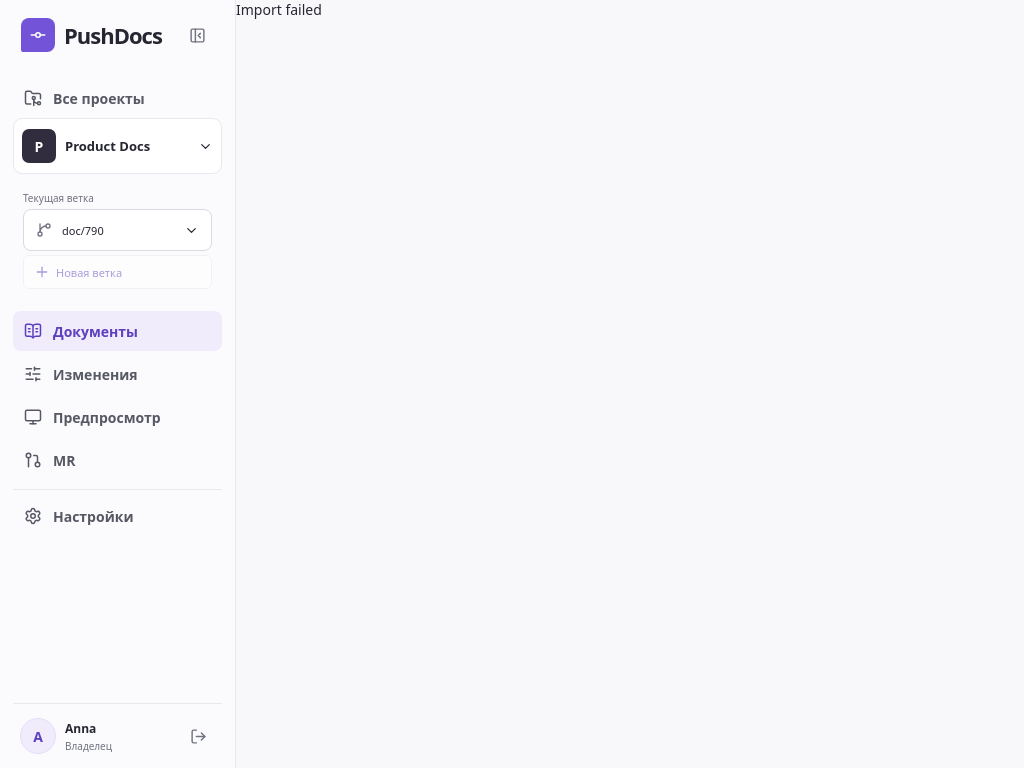
Test: switches away from an unavailable branch through the sidebar picker
Click the dropdown named "Выбрать текущую ветку" at (118, 230), box [23,209,212,251]
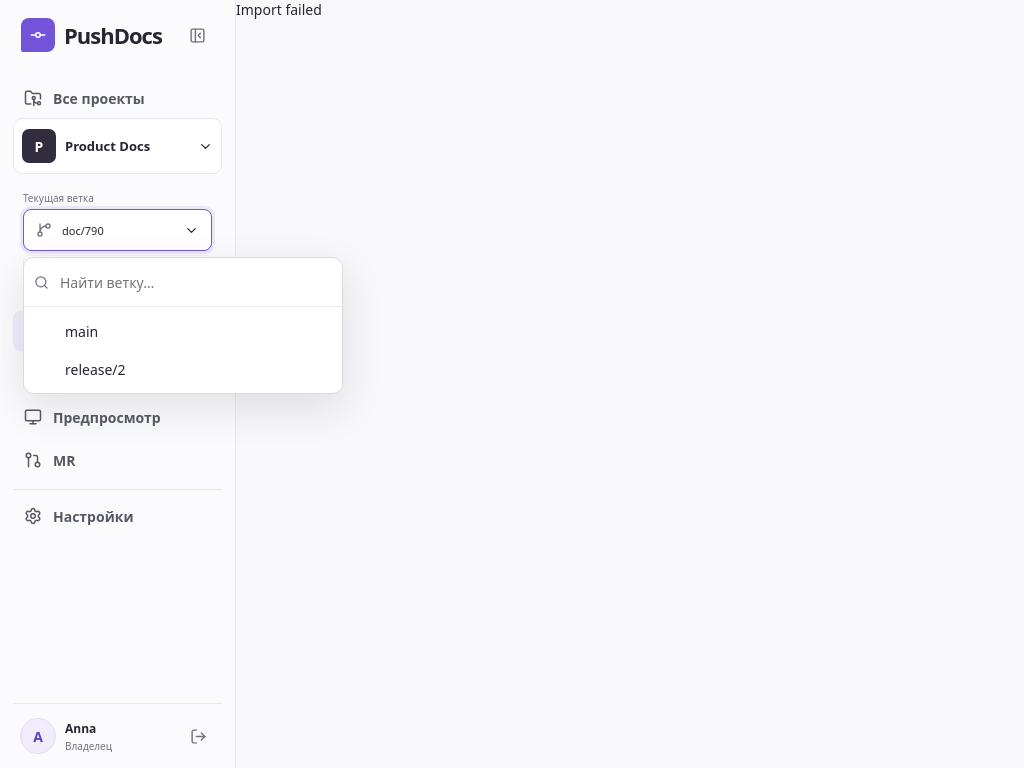
Click the option "release/2" at (95, 369), box [65,360,126,378]
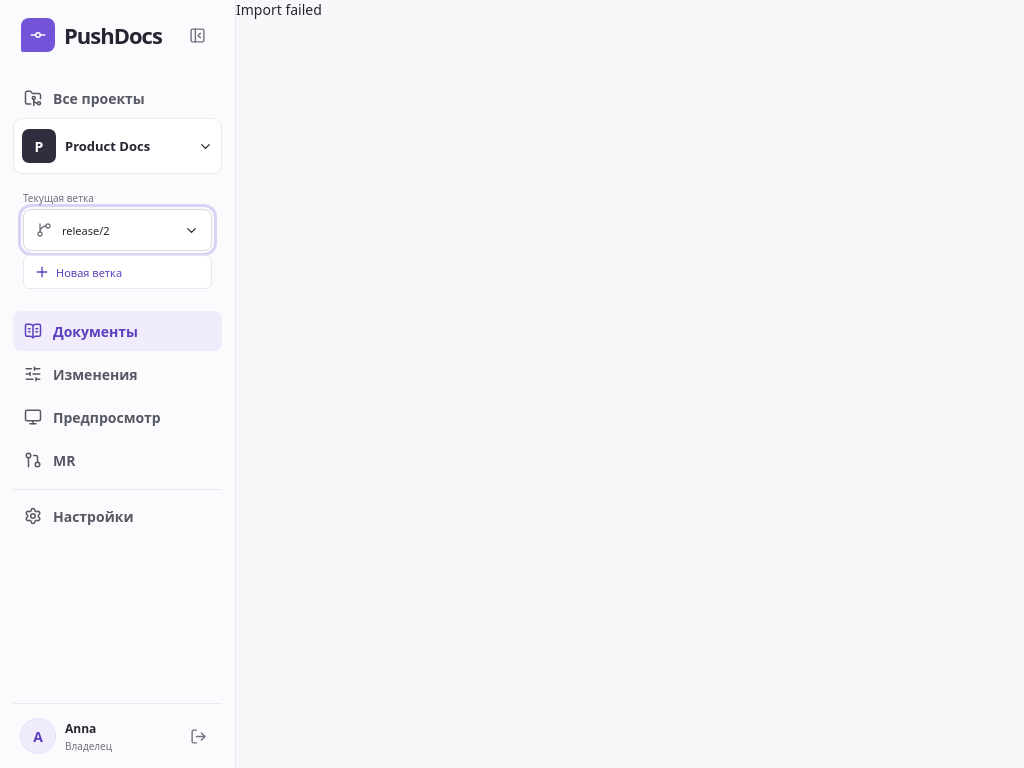
Expected: the dropdown named "Выбрать текущую ветку" reads "release/2", [23,209,212,251]
